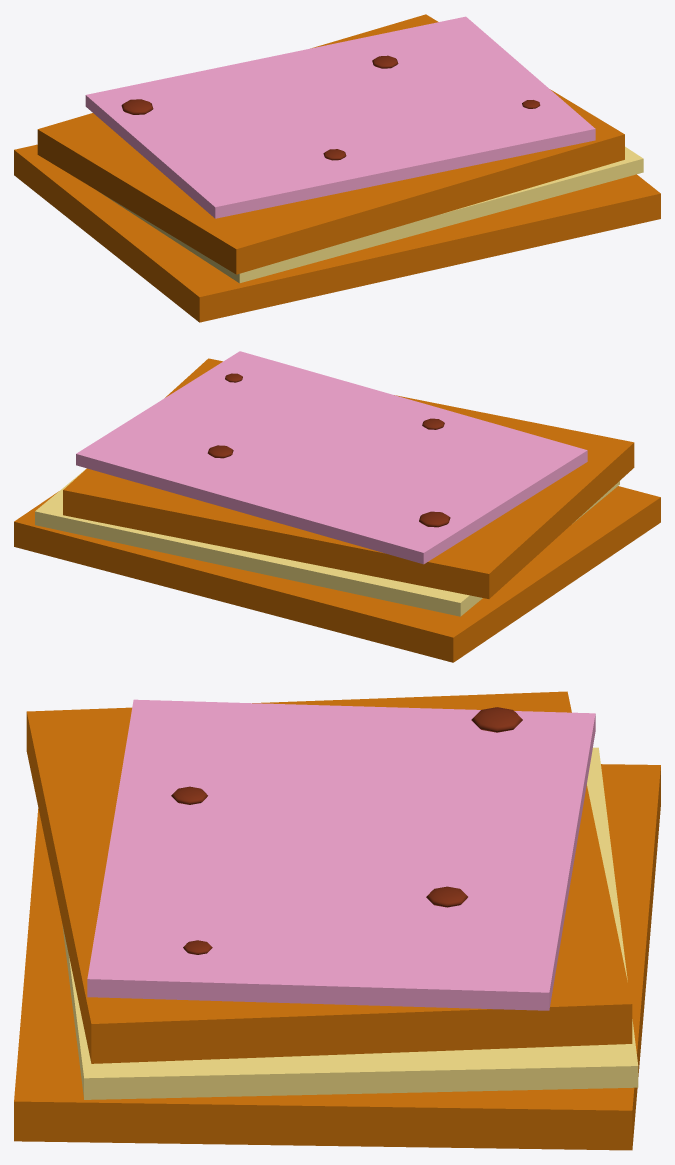
File: toy_barn_cookie_stack.glb
3 views of the same model, one above another, from view 1: azimuth 30°, elevation 25°; view 2: azimuth 150°, elevation 25°; view 3: azimuth 270°, elevation 25° (orthographic). The views are drawn at different scales.
Visible parts, largest first — view 1: solid_4, solid_3, solid_1, solid_2; view 2: solid_4, solid_3, solid_1, solid_2; view 3: solid_4, solid_3, solid_1, solid_2, solid_5.
Boxes of the visible parts, x1=… form: solid_4: x1=85, y1=16, x2=595, y2=218; solid_3: x1=37, y1=14, x2=624, y2=274; solid_1: x1=14, y1=144, x2=660, y2=322; solid_2: x1=98, y1=146, x2=643, y2=283; solid_4: x1=76, y1=351, x2=587, y2=564; solid_3: x1=63, y1=358, x2=634, y2=598; solid_1: x1=14, y1=486, x2=660, y2=662; solid_2: x1=35, y1=468, x2=619, y2=616; solid_4: x1=87, y1=699, x2=595, y2=1010; solid_3: x1=26, y1=691, x2=632, y2=1063; solid_1: x1=14, y1=764, x2=660, y2=1150; solid_2: x1=62, y1=747, x2=638, y2=1099; solid_5: x1=471, y1=707, x2=522, y2=732.
Bounding box in the file's own units: 4.21 × 0.8064 × 3.24.
